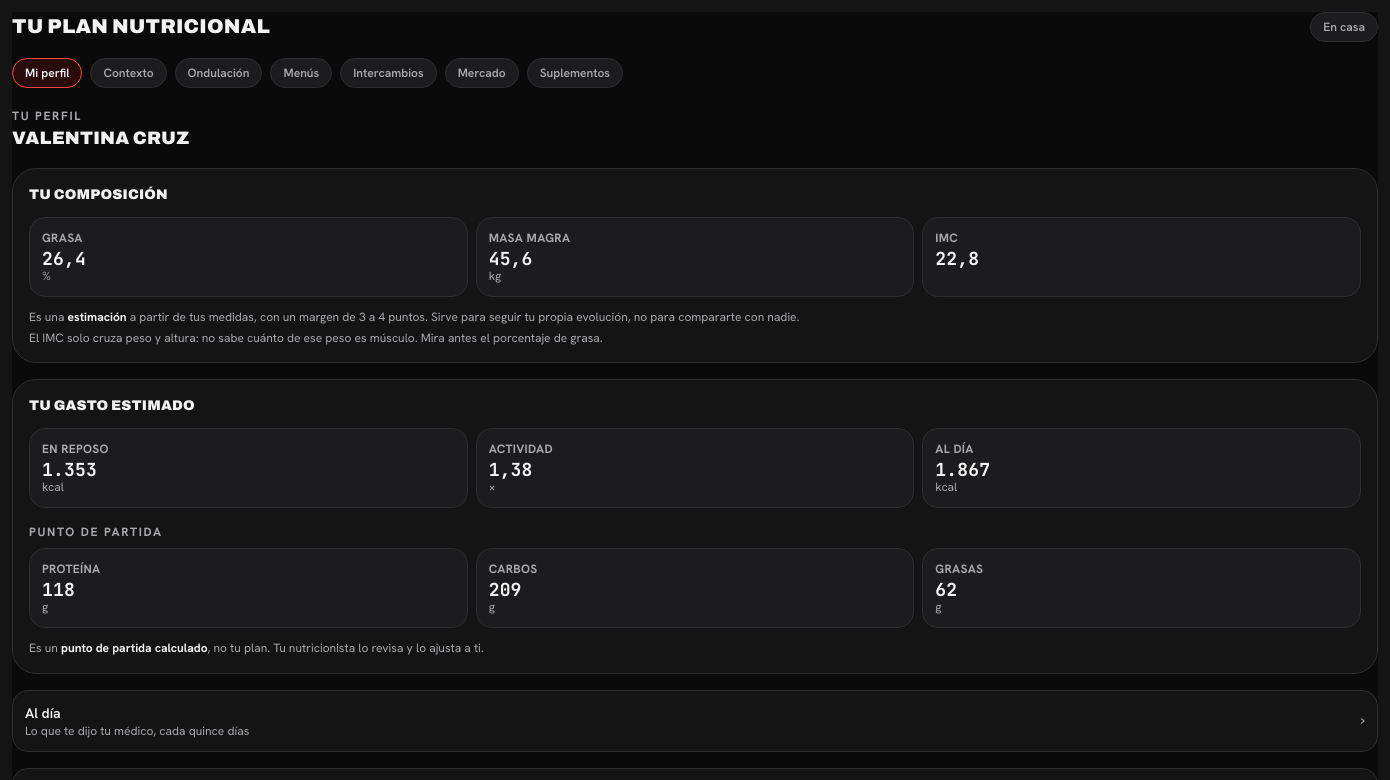
MiPlan › los intercambios recuerdan que se cambia dentro del grupo
Click the button "Intercambios": {"x": 388, "y": 73} 340,58 -> 437,88
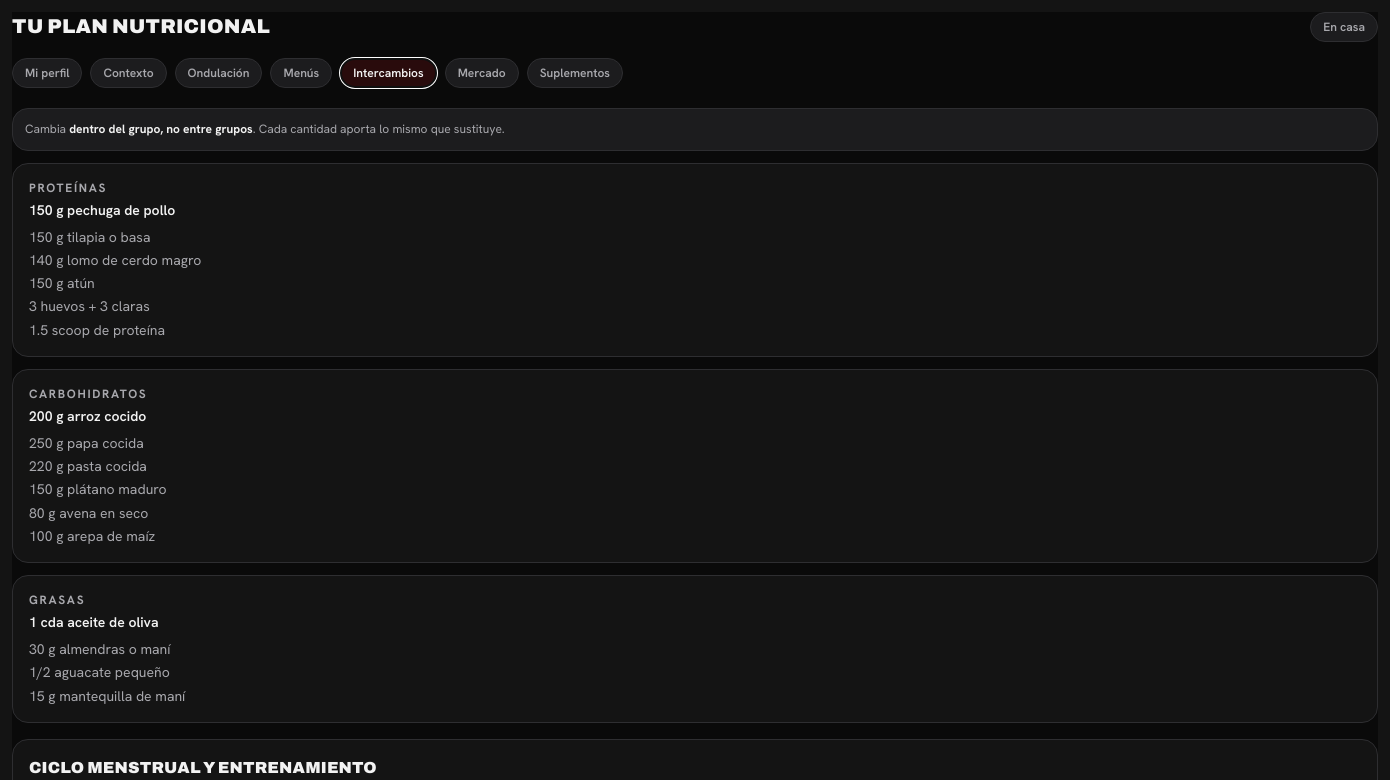
Check: the text "dentro del grupo, no entre grupos" is shown, box 69,121 -> 253,137
